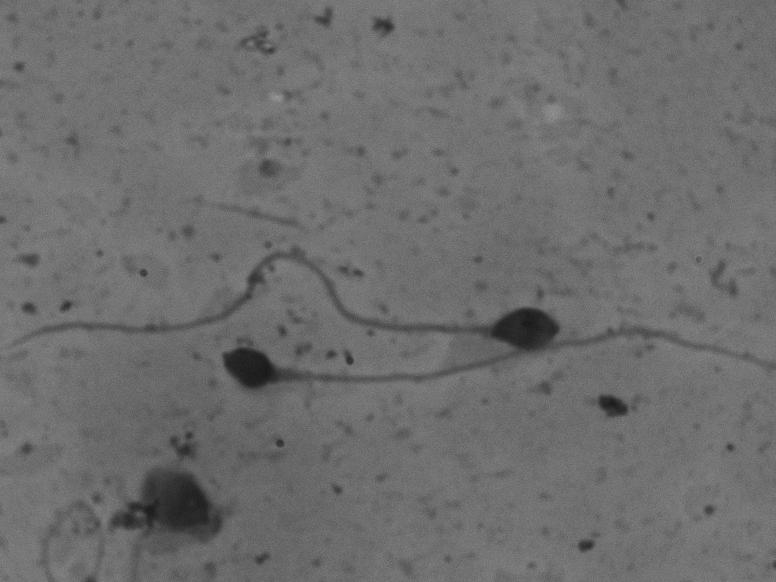Abnormal: (10, 238, 577, 372), (197, 312, 776, 410)
